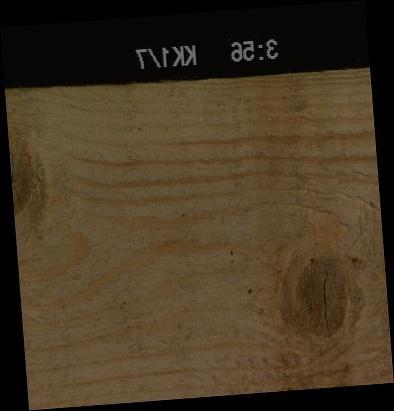sound_knot: (293, 258, 349, 336), (10, 134, 37, 214)
